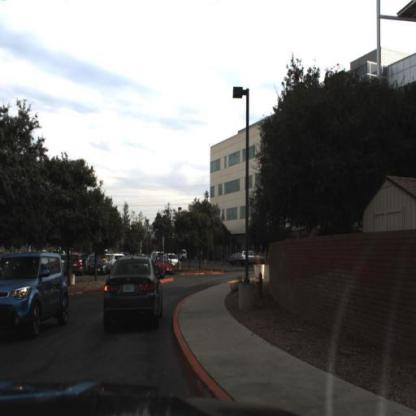car: (1, 248, 72, 336), (101, 247, 165, 332), (150, 252, 178, 278), (83, 254, 110, 280), (87, 253, 108, 280), (237, 247, 263, 268), (234, 250, 265, 267), (105, 252, 126, 277), (154, 252, 175, 277), (178, 245, 189, 262)
